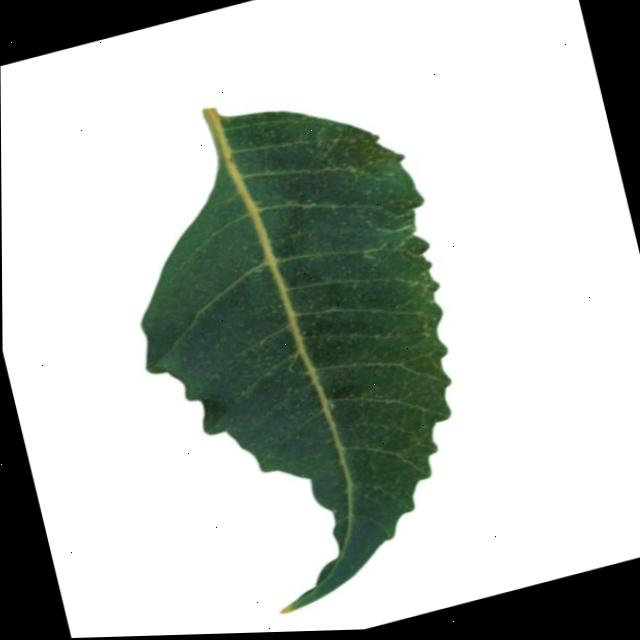Wet: (136, 108, 450, 617)
